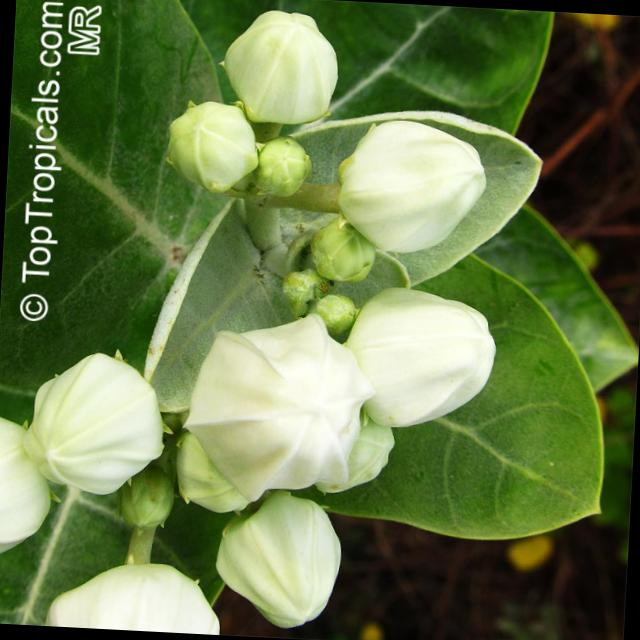Poisonous-Calatropis: (122, 1, 556, 528), (0, 344, 361, 640)
